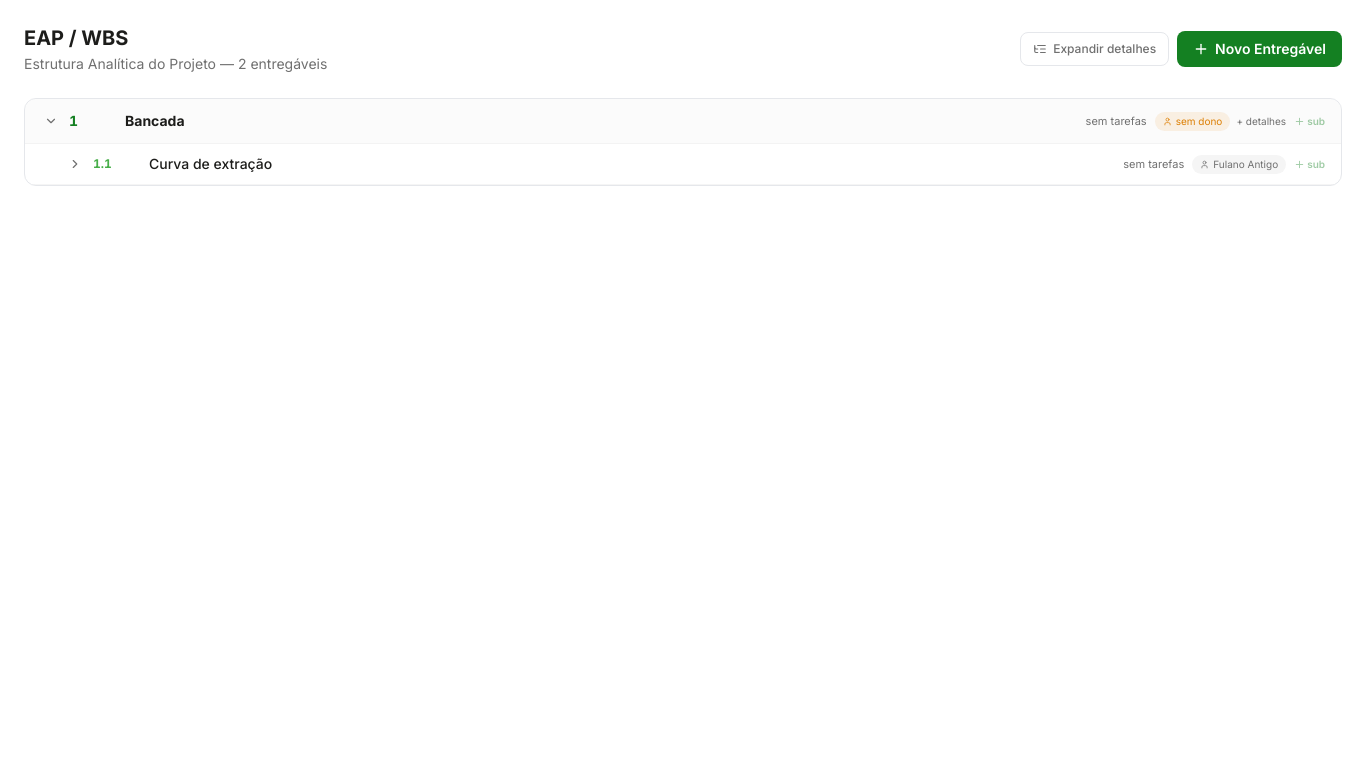
Test case: WbsClient — dono do pacote › should keep an owner that is not on the team as a selectable option
Click the button "Curva de extração" at (211, 164), box [149,154,1115,174]
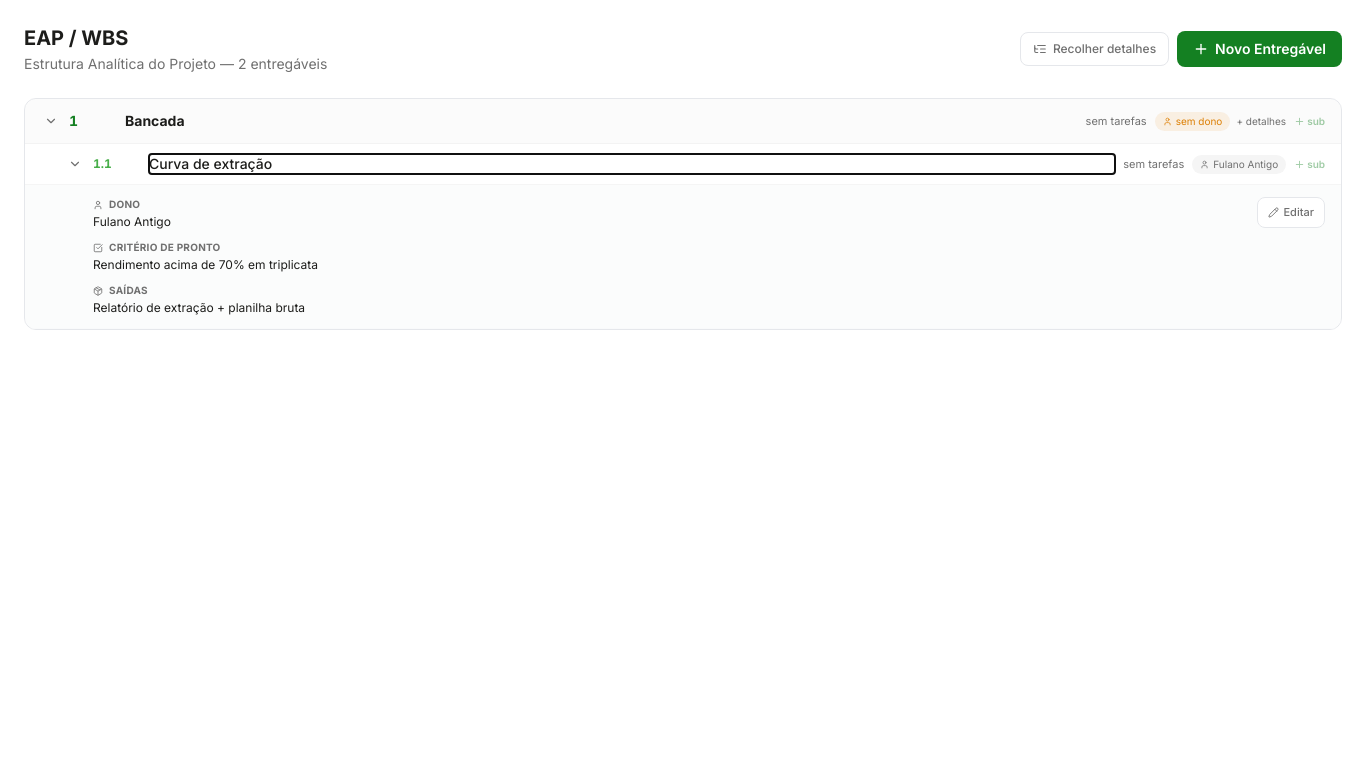
Click the button "Editar" at (1291, 212), box [1258,197,1325,228]
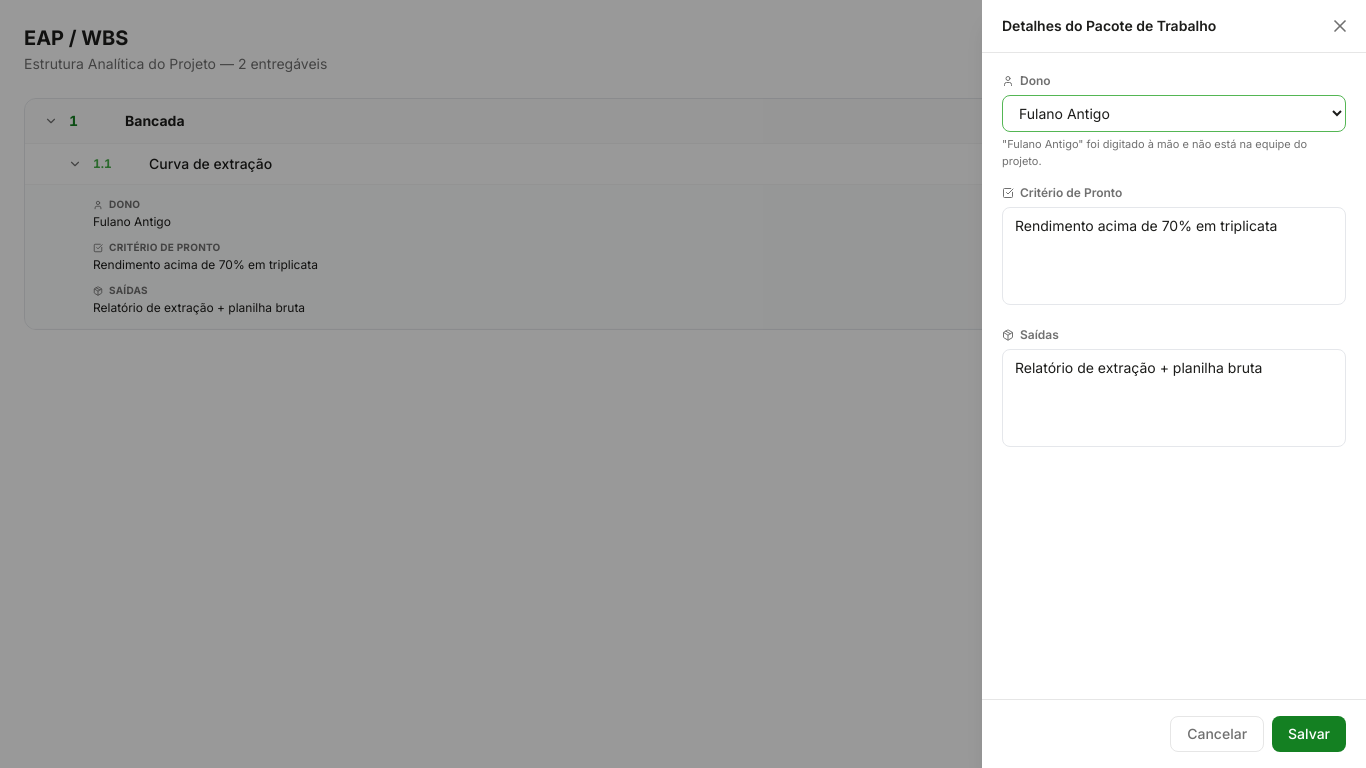
Expected: the dropdown labelled "Dono" shows "Fulano Antigo", [1002,95,1346,132]
Expected: the text "não está na equipe do projeto" is shown, [1002,137,1307,168]
